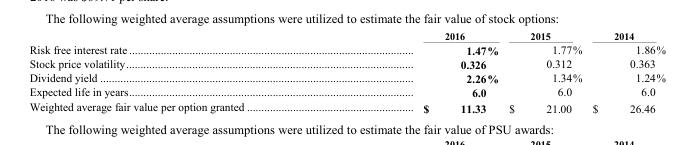table: (28, 28, 664, 114)
table column: (28, 28, 332, 114), (332, 28, 502, 114), (502, 28, 586, 114), (586, 28, 664, 114)
table column header: (28, 28, 664, 42)
table row: (28, 84, 664, 99), (28, 99, 664, 114), (28, 28, 664, 42), (28, 42, 664, 56), (28, 56, 664, 70), (28, 70, 664, 84)
